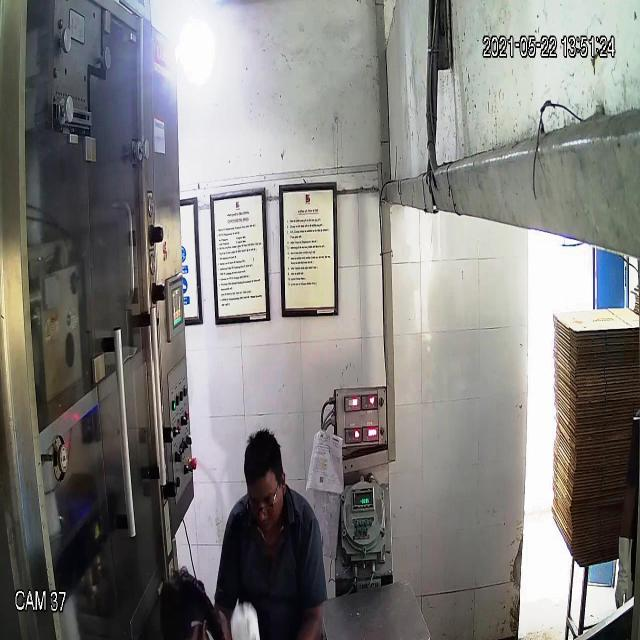glasses: (243, 488, 281, 522)
